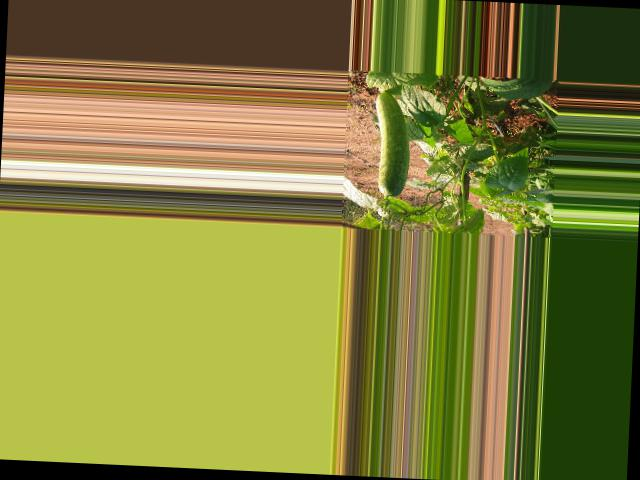cucumber: (371, 91, 412, 196)
